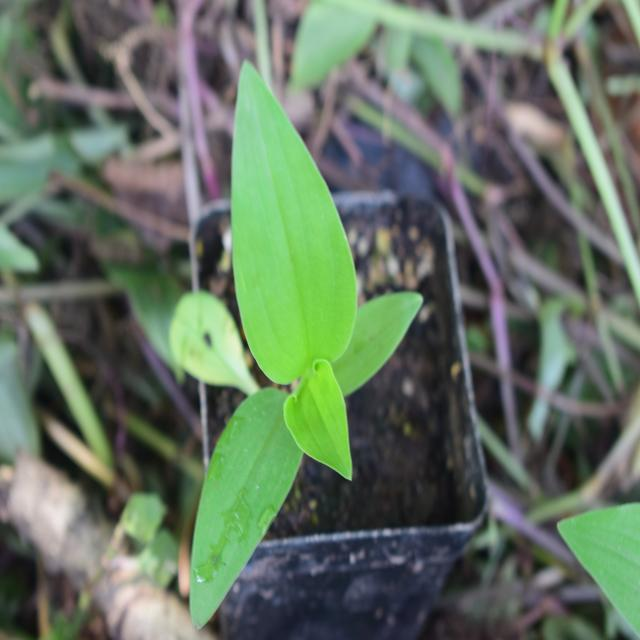Common Dayflower: (154, 71, 412, 603)
